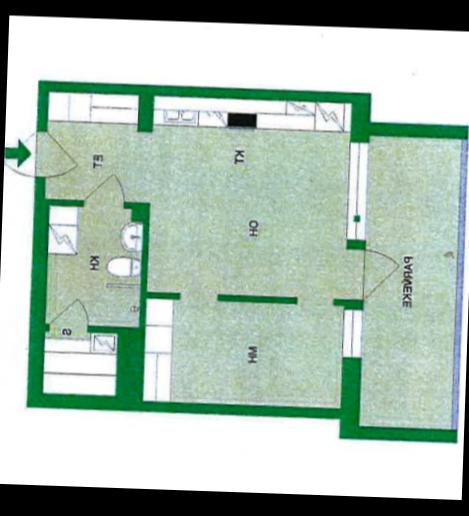door: (354, 247, 399, 303), (34, 126, 80, 180), (76, 174, 126, 210), (44, 298, 89, 332)
window: (342, 137, 368, 246), (338, 306, 362, 364)
